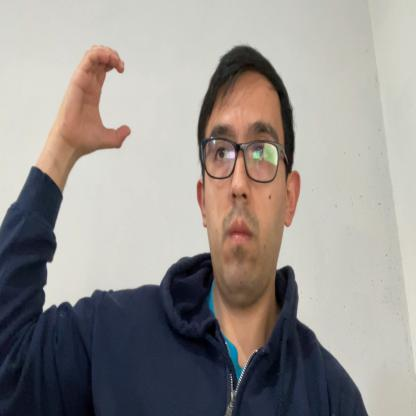C: (68, 45, 132, 155)
